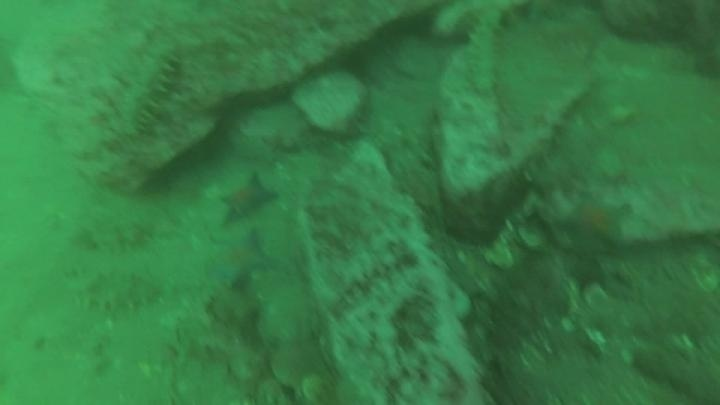holothurian: (109, 37, 183, 137), (66, 266, 167, 316), (462, 7, 508, 100), (68, 212, 161, 256)
starfish: (555, 191, 633, 255), (205, 229, 278, 292), (216, 170, 280, 225)
